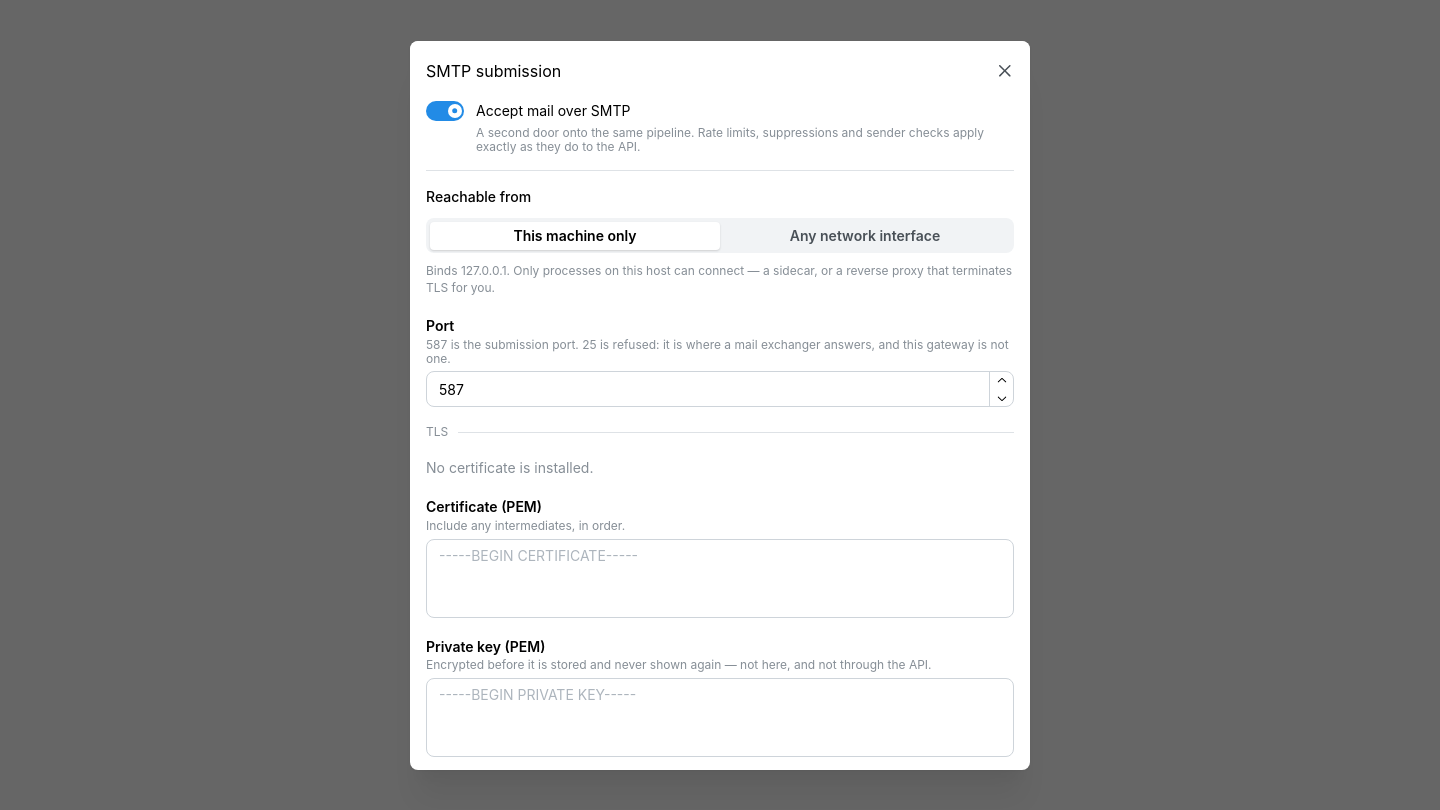
Test: SmtpSubmissionForm › a listener on every interface with no certificate cannot be saved
What coordinates should you click on to do the following:
click the text "Any network interface"
I would click on:
 (865, 235)
Its box is [790,227,940,244].
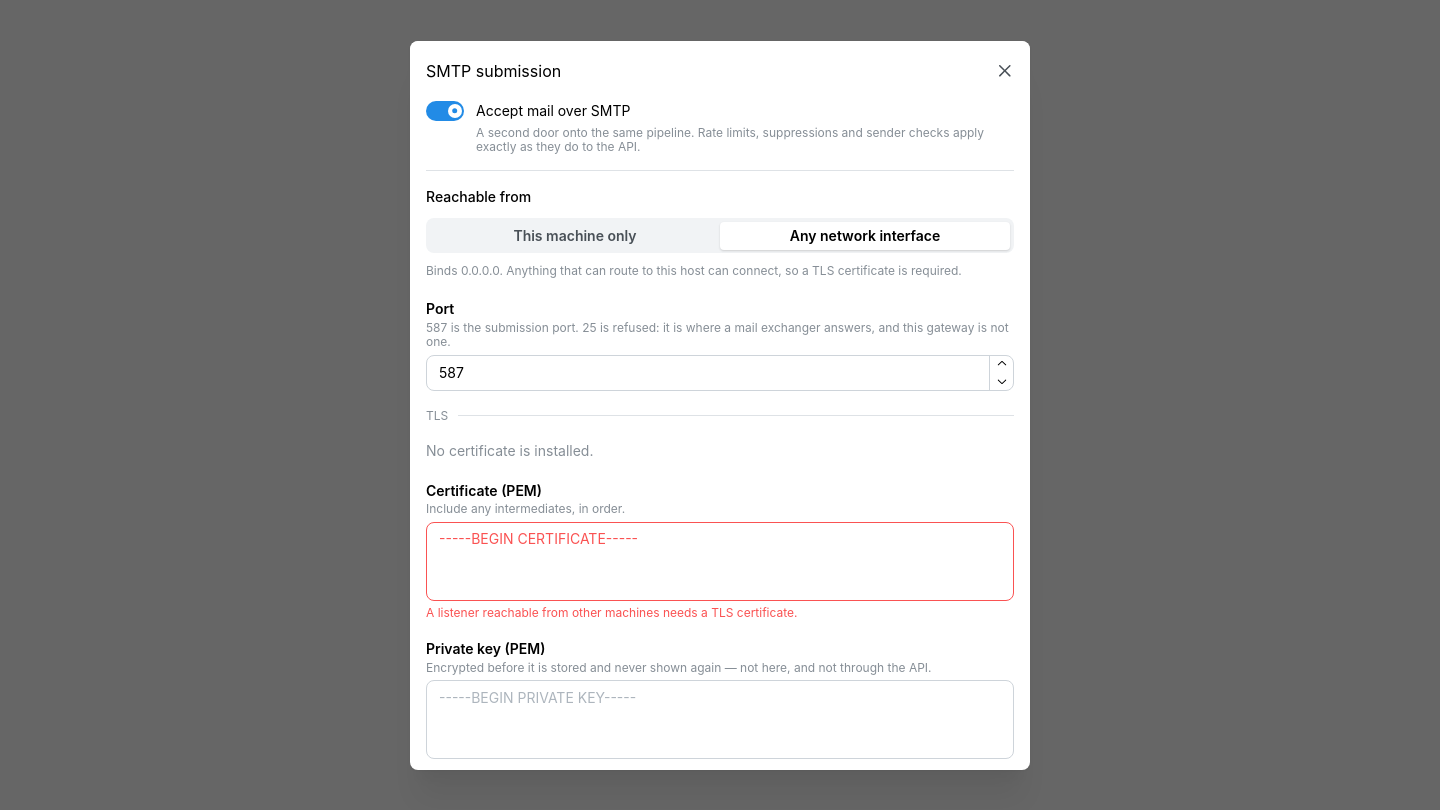
Expected: the text "needs a TLS certificate" is shown, [426,605,798,620]
